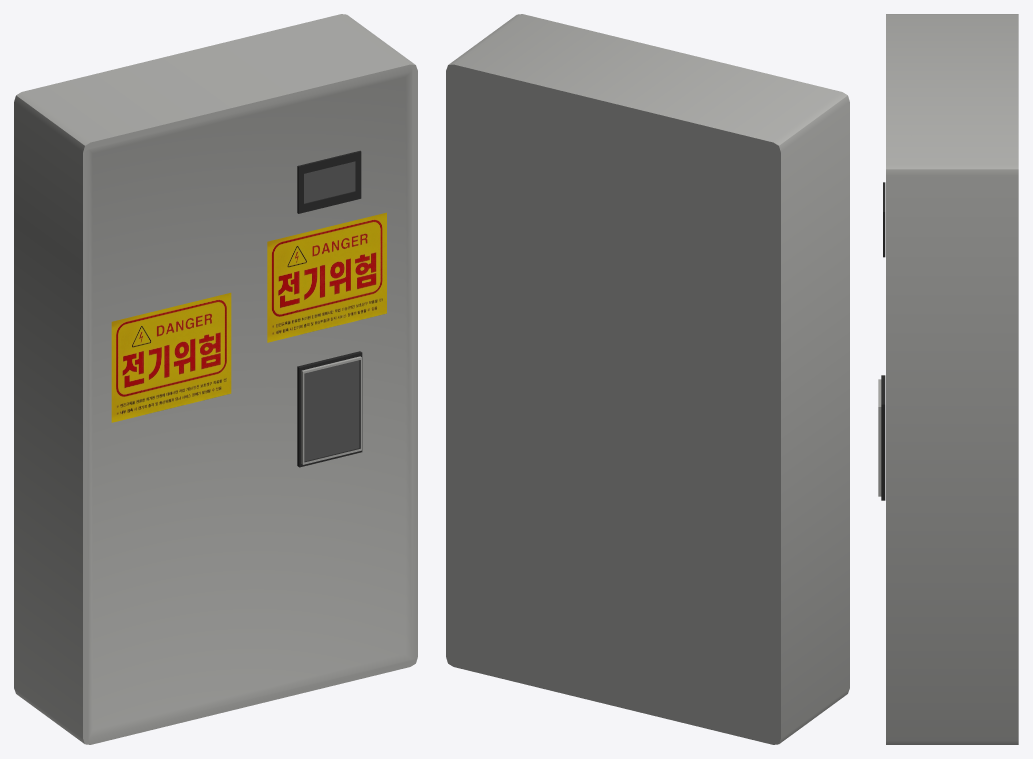
3 views of the same model, side by side, from view 1: azimuth 30°, elevation 25°; view 2: azimuth 150°, elevation 25°; view 3: azimuth 270°, elevation 25° (orthographic). The views are drawn at different scales.
Visible parts, largest first — view 1: PLC본체(전원환경감시)006; view 2: PLC본체(전원환경감시)006; view 3: PLC본체(전원환경감시)006.
Part boxes in pixels (x1,y1,x2,y2): PLC본체(전원환경감시)006: (14, 14, 417, 744); PLC본체(전원환경감시)006: (446, 14, 849, 744); PLC본체(전원환경감시)006: (878, 14, 1018, 744).
Bounding box in the file's own units: 0.7 × 1.2 × 0.264.
4 materials, 1 textured.
